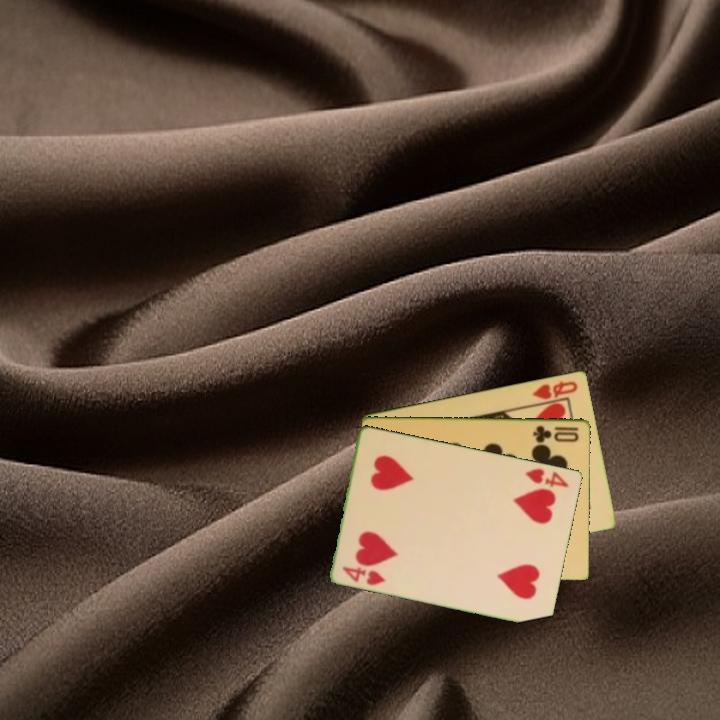10c: (530, 422, 582, 444)
4h: (339, 562, 389, 588), (522, 465, 572, 490)
Qh: (529, 377, 581, 402)
